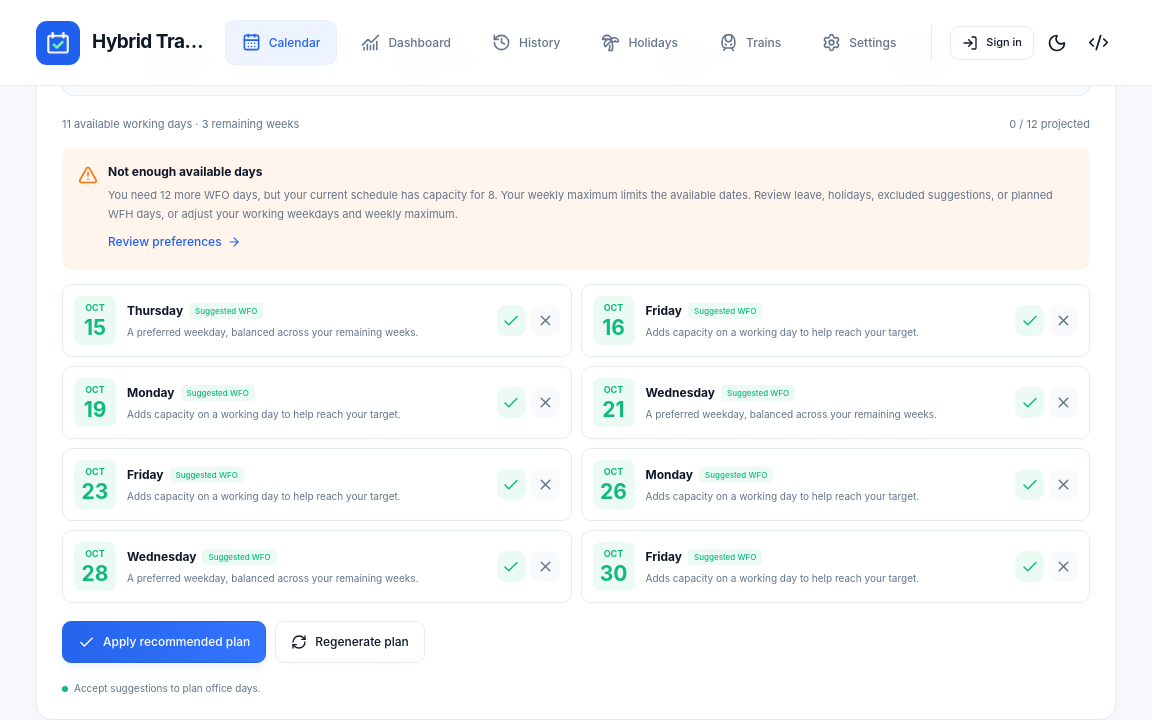
Test case: complete attendance flow › applies suggestions as planned attendance and requires explicit completion
The image size is (1152, 720).
(page scrolled)
Click the button "Apply recommended plan". click: point(164, 642)
box: [62, 621, 266, 663]
(page scrolled)
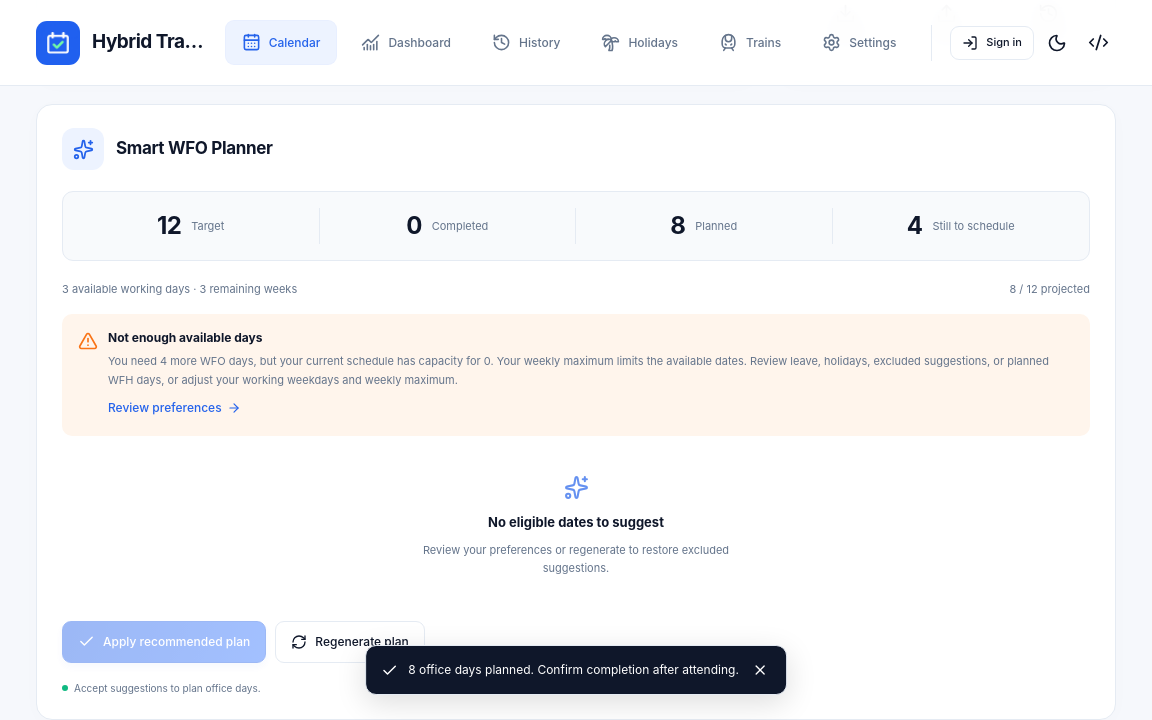
Check: the text "8 office days planned. Confirm completion after attending." is shown, box [408, 660, 739, 680]
